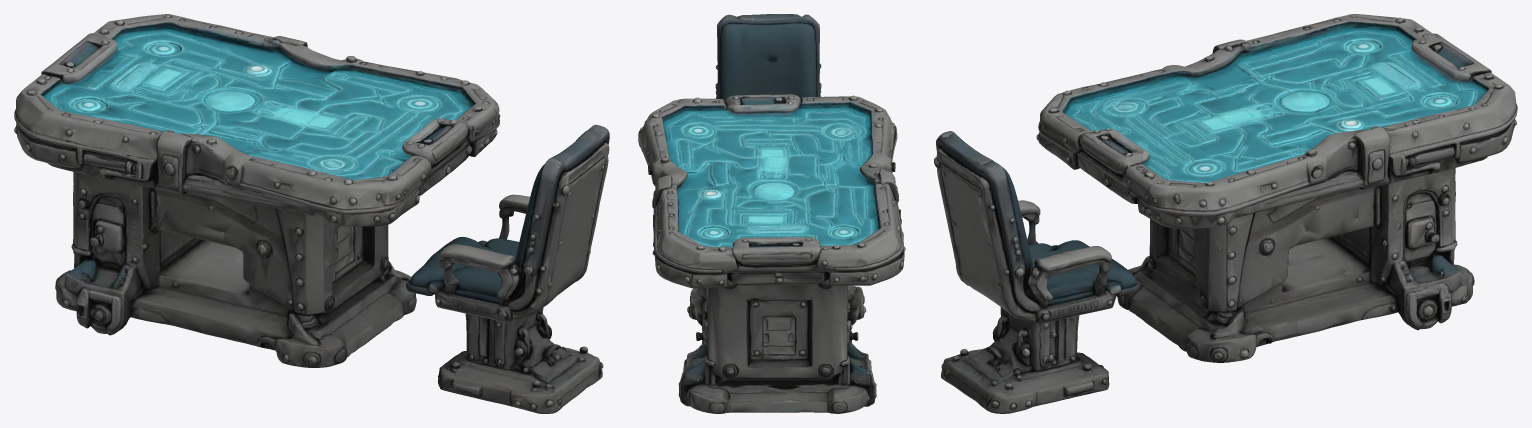
Rendered from bridge.glb.
3 views of the same model, side by side, from view 1: azimuth 30°, elevation 25°; view 2: azimuth 150°, elevation 25°; view 3: azimuth 270°, elevation 25° (orthographic). The views are drawn at different scales.
Visible parts, largest first — view 1: tripo_node_e2ecafb3-c1ac-4e01-8e32-f9701c2e1e28; view 2: tripo_node_e2ecafb3-c1ac-4e01-8e32-f9701c2e1e28; view 3: tripo_node_e2ecafb3-c1ac-4e01-8e32-f9701c2e1e28.
Part boxes in pixels (left/top/right/bottom): tripo_node_e2ecafb3-c1ac-4e01-8e32-f9701c2e1e28: left=14, top=14, right=609, bottom=413; tripo_node_e2ecafb3-c1ac-4e01-8e32-f9701c2e1e28: left=638, top=14, right=905, bottom=413; tripo_node_e2ecafb3-c1ac-4e01-8e32-f9701c2e1e28: left=934, top=14, right=1517, bottom=413.
Bounding box in the file's own units: 0.7802 × 0.4668 × 0.9997.
Materials: 1 (1 with a texture image).
